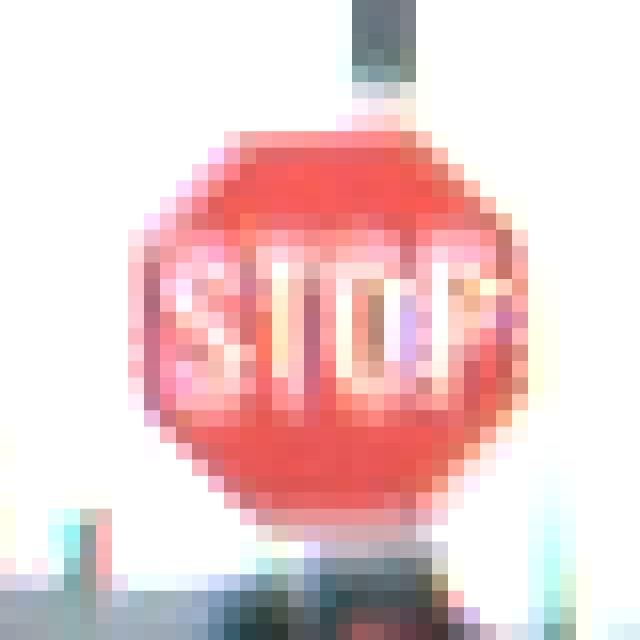STOP: (97, 83, 561, 559)
